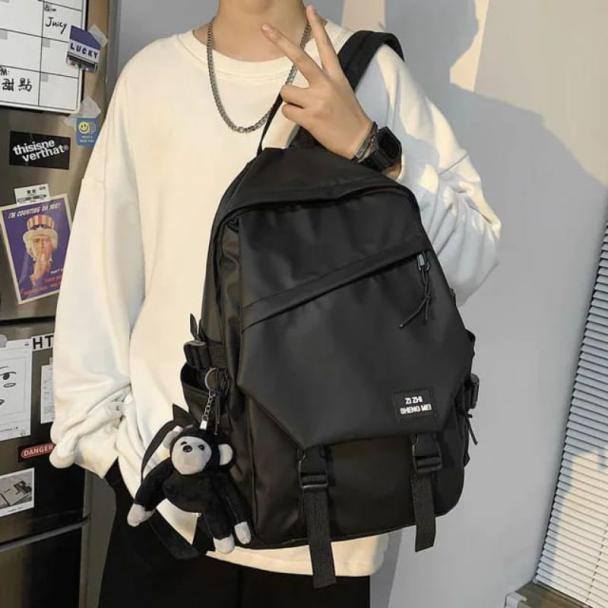Jam: (351, 116, 414, 175)
Tas: (201, 158, 473, 536)
